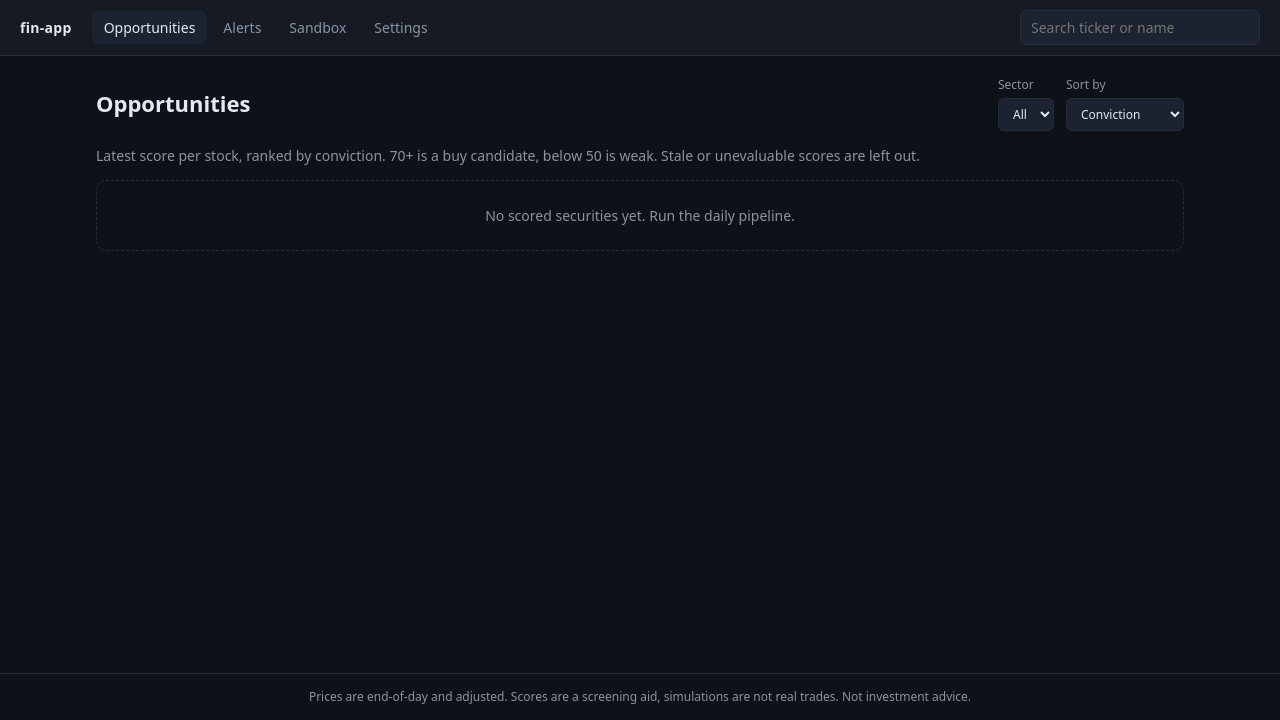
the navigation reaches every section
Click the link to "/alerts": (242,28) top-left (223, 18), bottom-right (261, 37)
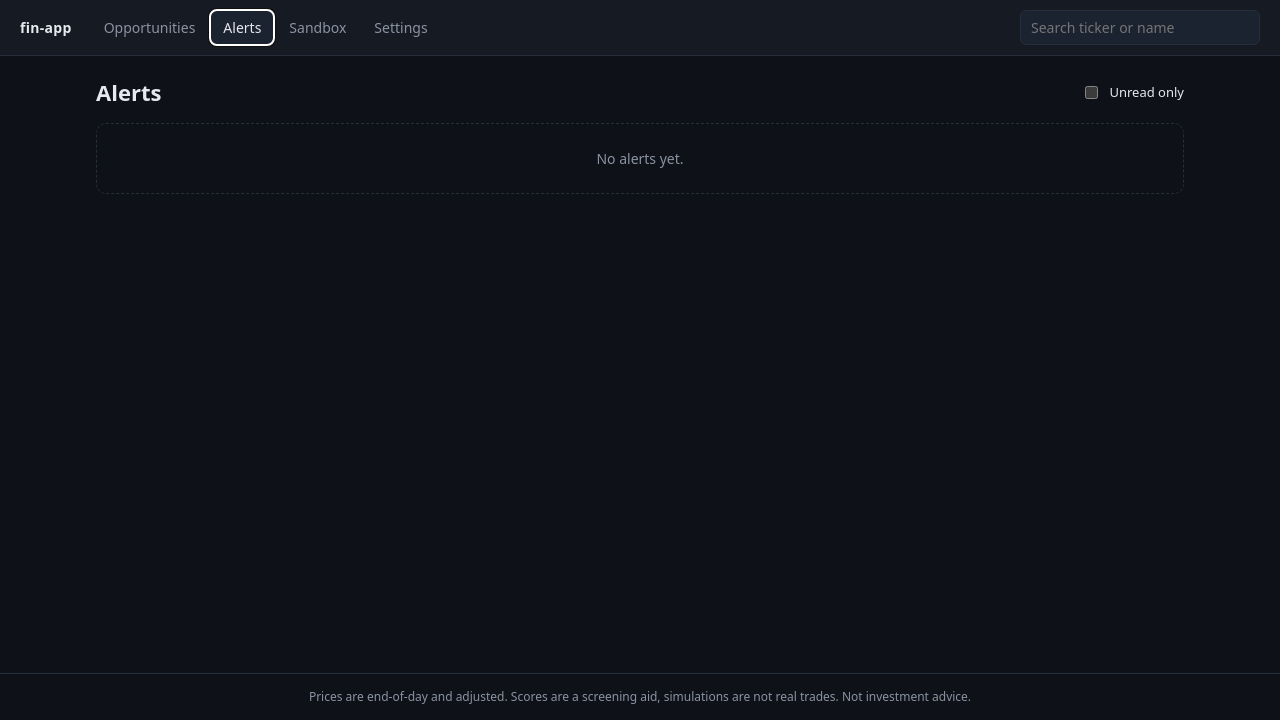
Expected: the heading "Alerts" is shown, top-left (96, 76), bottom-right (161, 109)
Click the link to "/sandbox": (318,28) top-left (289, 18), bottom-right (346, 37)
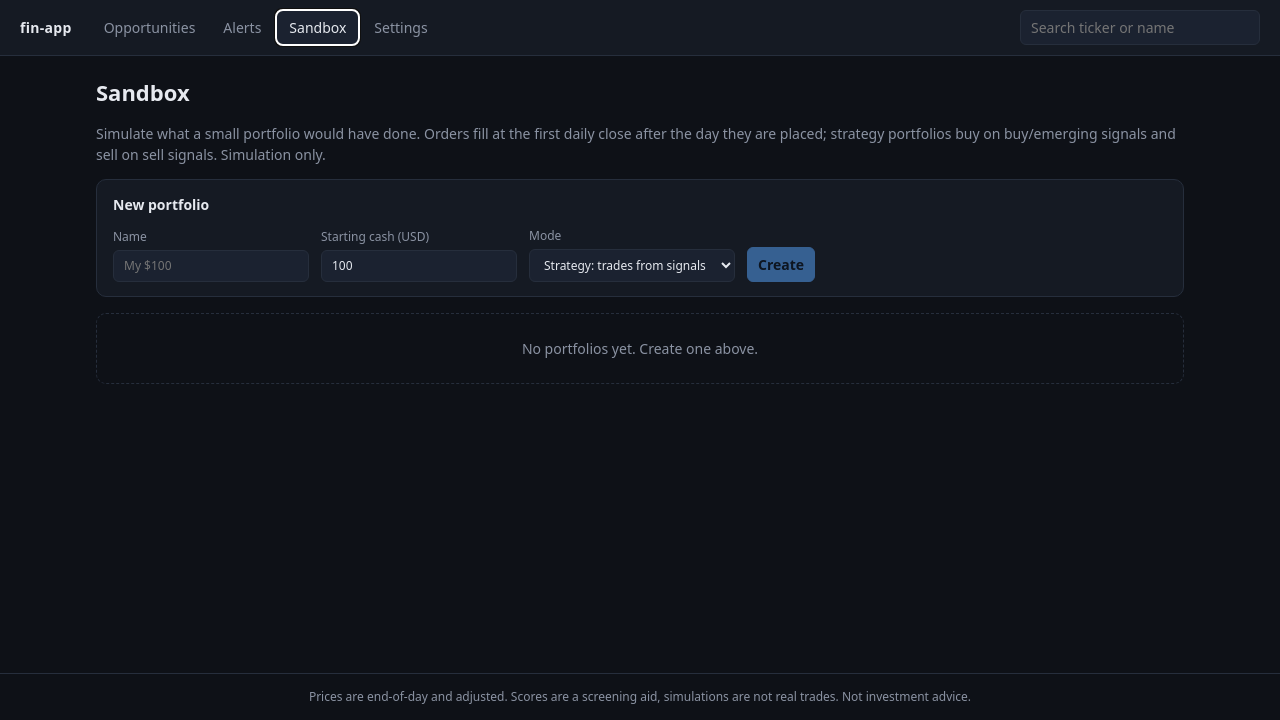
Expected: the heading "Sandbox" is shown, top-left (96, 76), bottom-right (190, 109)
Click the link to "/settings": (401,28) top-left (374, 18), bottom-right (428, 37)
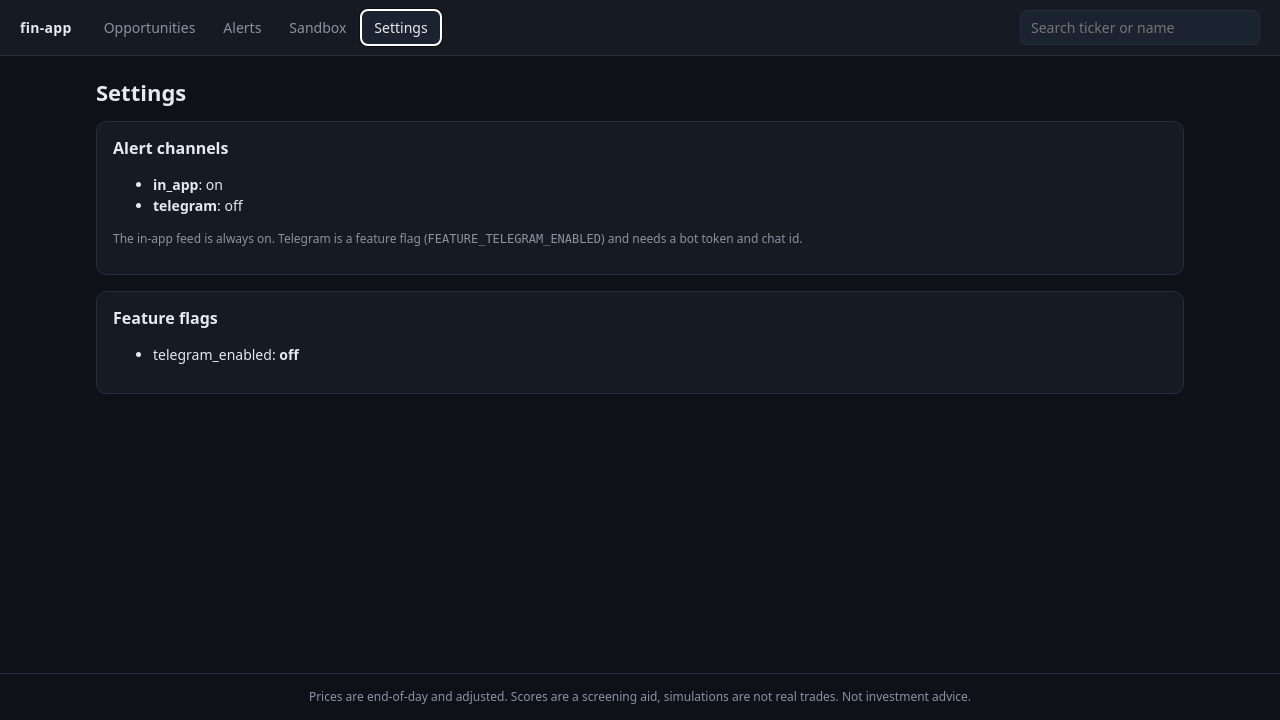
Expected: the list item "telegram_enabled:" is shown, top-left (153, 345), bottom-right (299, 364)
Expected: the text "in_app" is shown, top-left (153, 175), bottom-right (198, 194)
